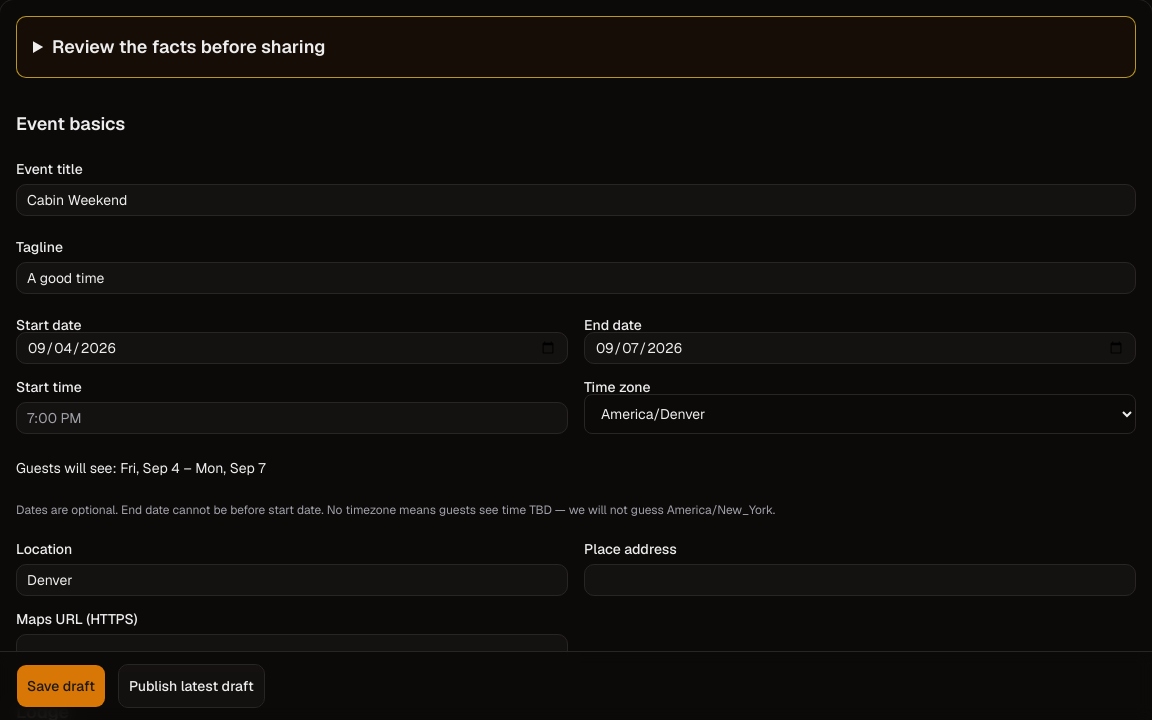
Test case: HostEditor draft review safety › previews the guest When line as dates, time, and timezone change
expect the text "Guests will see: Fri, Sep 4 – Mon, Sep 7" is shown: met, box [16,459,266,477]
In the field labelled "Start time": (292, 418) [16,402,568,434], type "19:00"
(page scrolled)
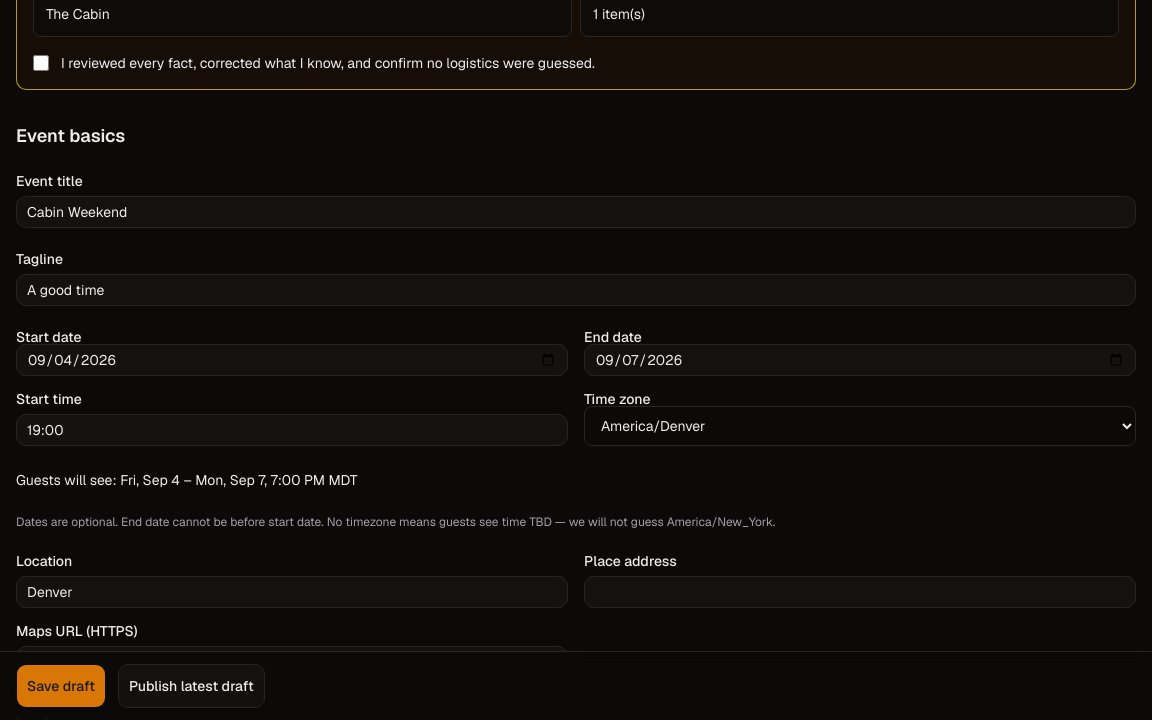
expect the text "Guests will see: Fri, Sep 4 – Mon, Sep 7, 7:00 PM MDT" is shown: met, box [16,471,358,489]
In the date field labelled "End date": (860, 360) [584,344,1136,376], type "2026-09-04"
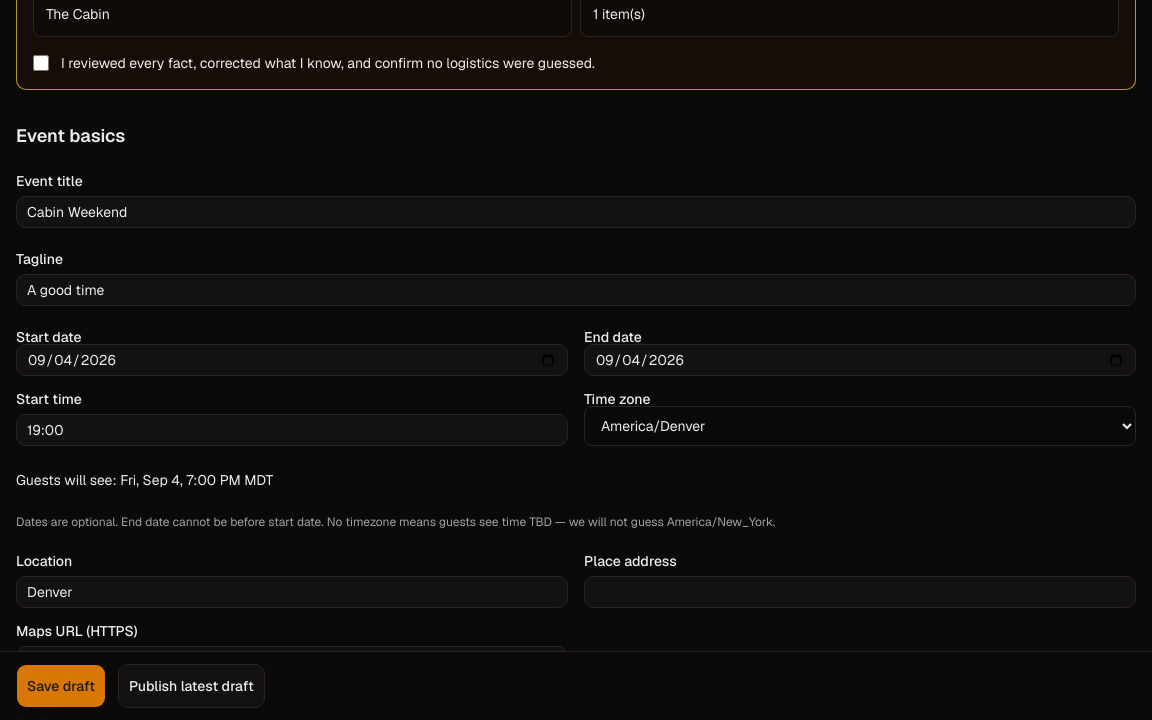
expect the text "Guests will see: Fri, Sep 4, 7:00 PM MDT" is shown: met, box [16,471,273,489]
expect the text "Guests will see:" no longer shows "Sep 4 –": met
Select "Not set — time stays TBD" in the dropdown labelled "Time zone": (860, 426) [584,406,1136,446]
(page scrolled)
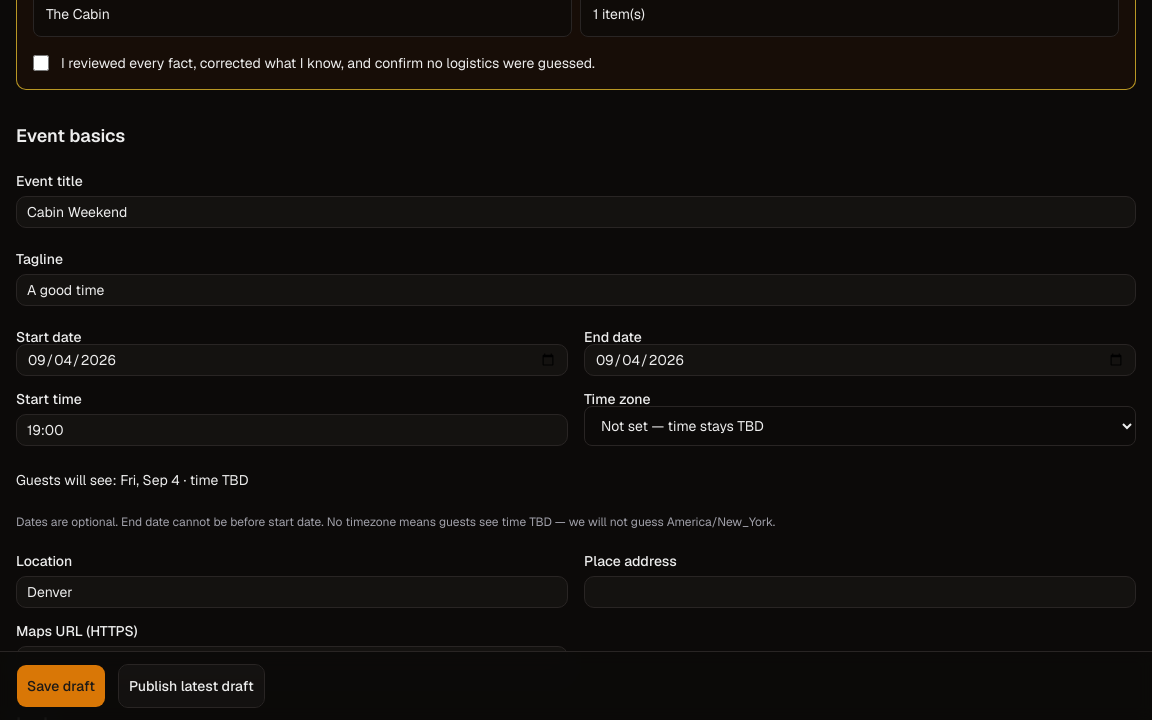
expect the text "Guests will see: Fri, Sep 4 · time TBD" is shown: met, box [16,471,248,489]
expect the text "Guests will see:" no longer shows "7:00 PM": met
